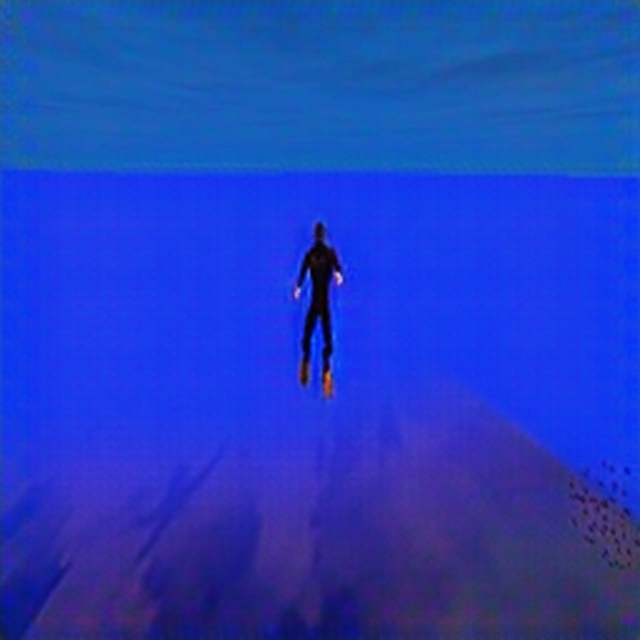diver: (291, 218, 345, 398)
